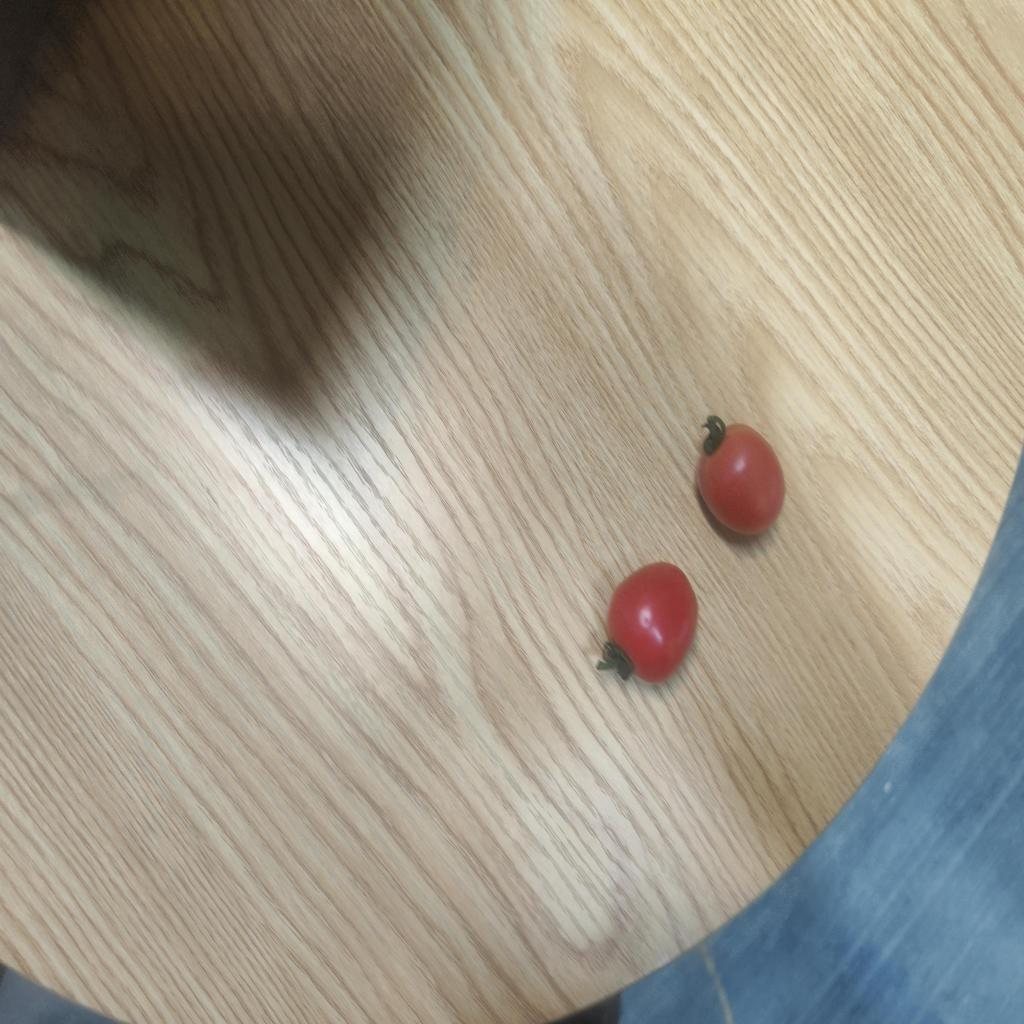tomato: (689, 409, 789, 532), (604, 561, 700, 685)
